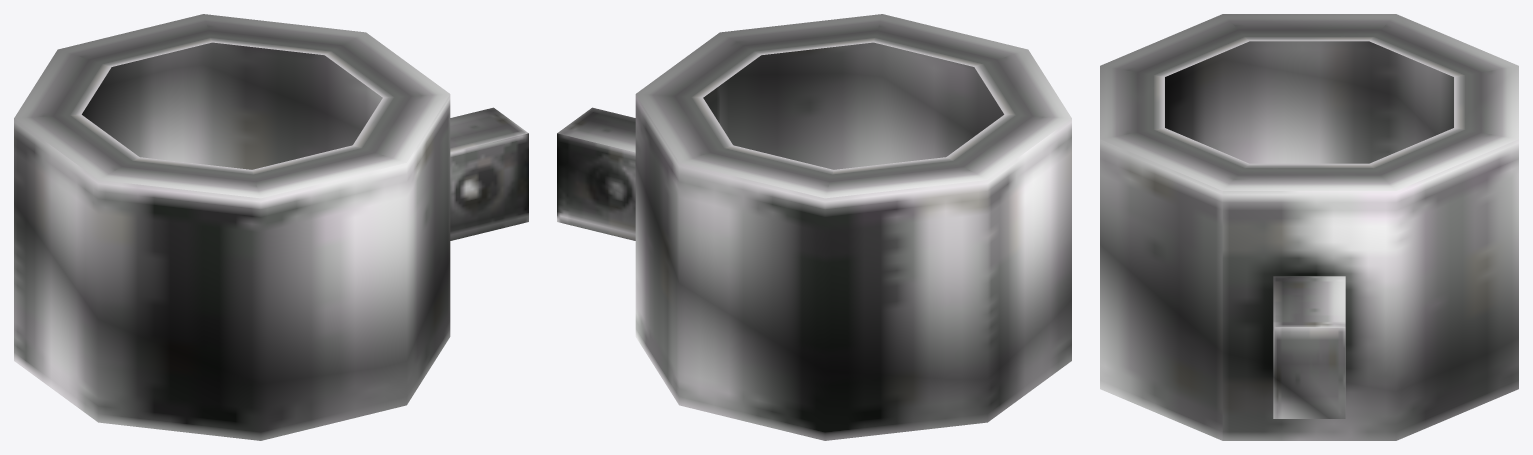
The model's file is INST_SWORDLIGHT_MANACLE.obj.
The picture shows the model from 3 angles, left to right: view 1: azimuth 30°, elevation 25°; view 2: azimuth 150°, elevation 25°; view 3: azimuth 270°, elevation 25°; orthographic projection. The views are drawn at different scales.
Visible parts, largest first — view 1: Manacle_Lod1_01; view 2: Manacle_Lod1_01; view 3: Manacle_Lod1_01.
Part boxes in pixels (x1,y1,x2,y2): Manacle_Lod1_01: [14, 14, 528, 440]; Manacle_Lod1_01: [557, 14, 1071, 440]; Manacle_Lod1_01: [1100, 14, 1518, 440].
Size of the model in its own units: 17.9 by 9.11 by 13.85.
